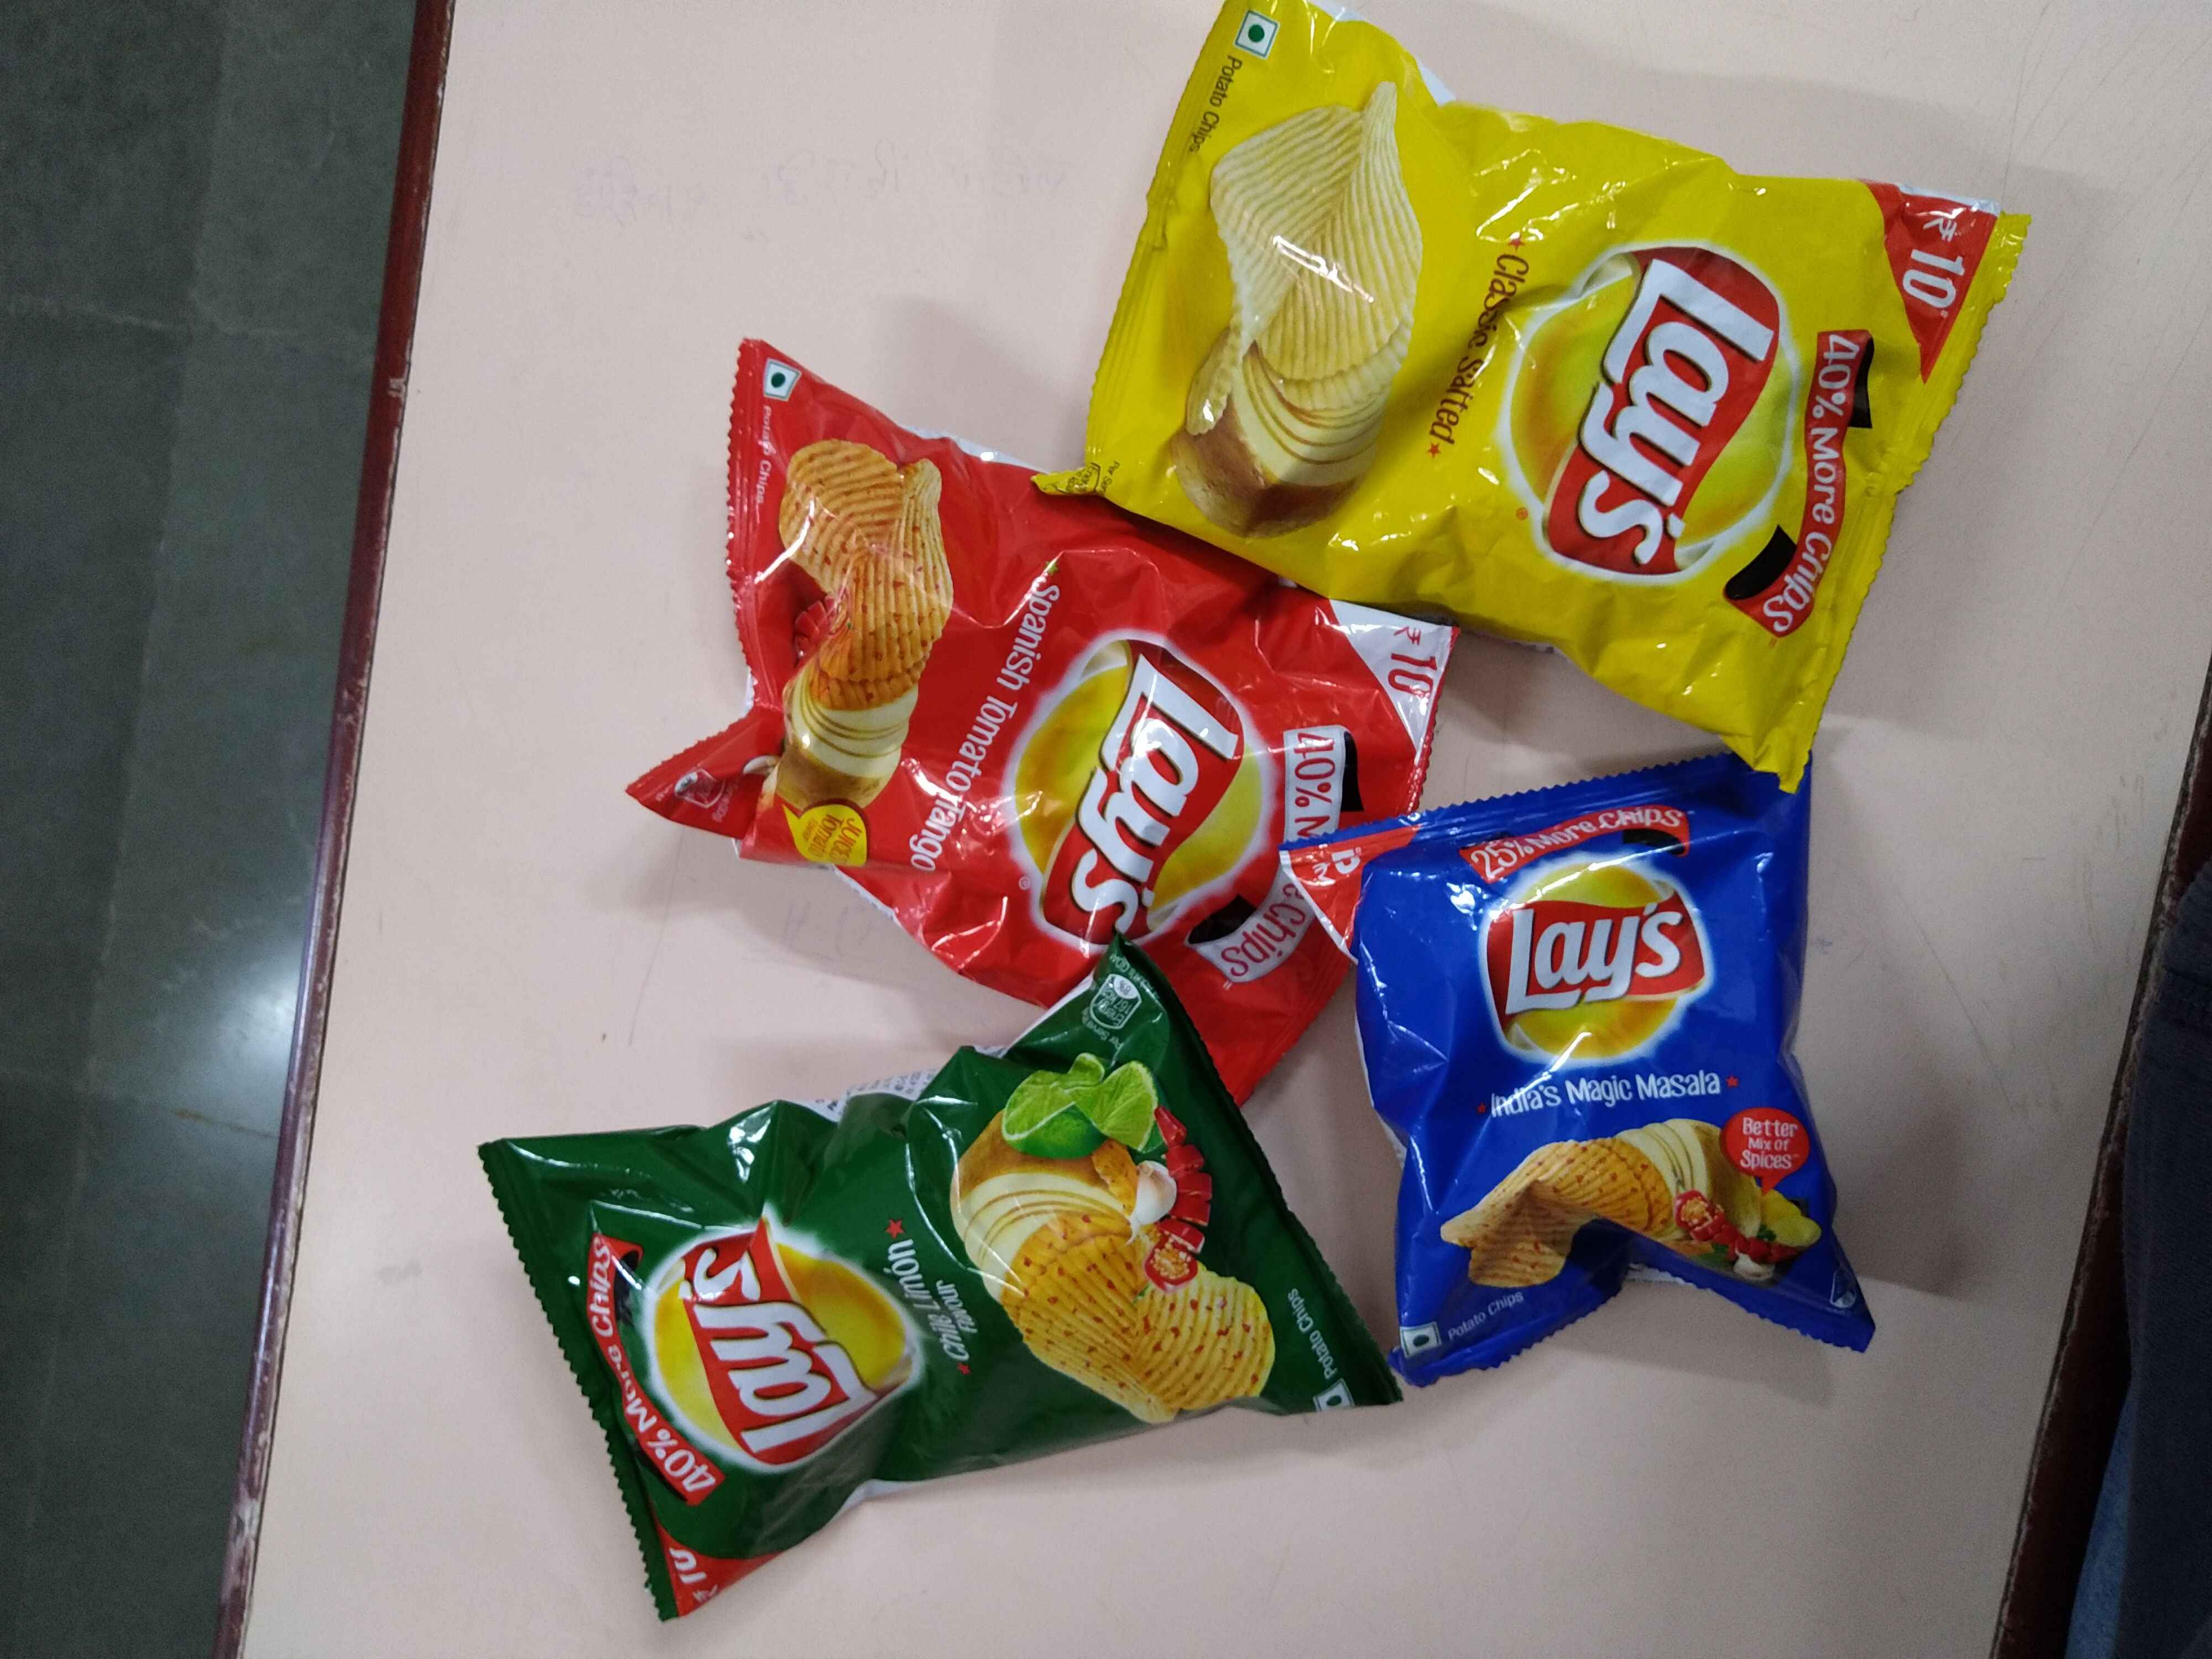Lays: (1491, 235, 1810, 565), (996, 638, 1287, 948), (636, 1195, 942, 1467), (1474, 840, 1742, 1082)
